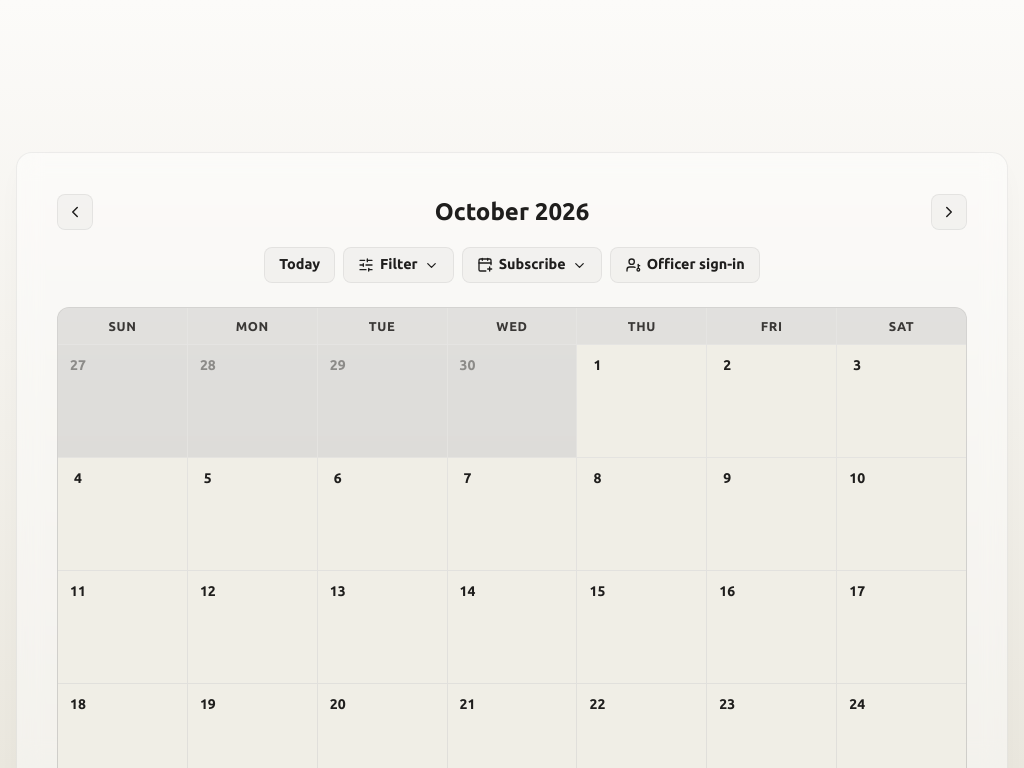
Test: Calendar page › navigates to next/prev month with the chevron buttons
Expected: the text "Future event" is not shown
Click the button named "Next month" at (949, 212), box left=931, top=194, right=967, bottom=230
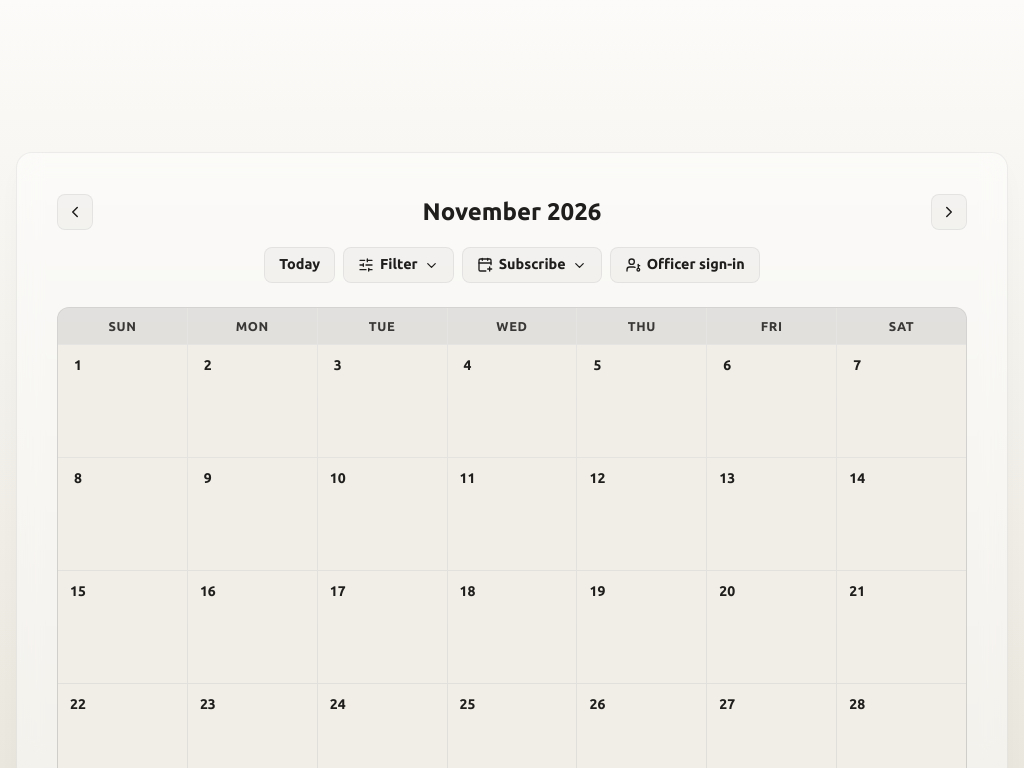
Click the button named "Next month" at (949, 212), box left=931, top=194, right=967, bottom=230
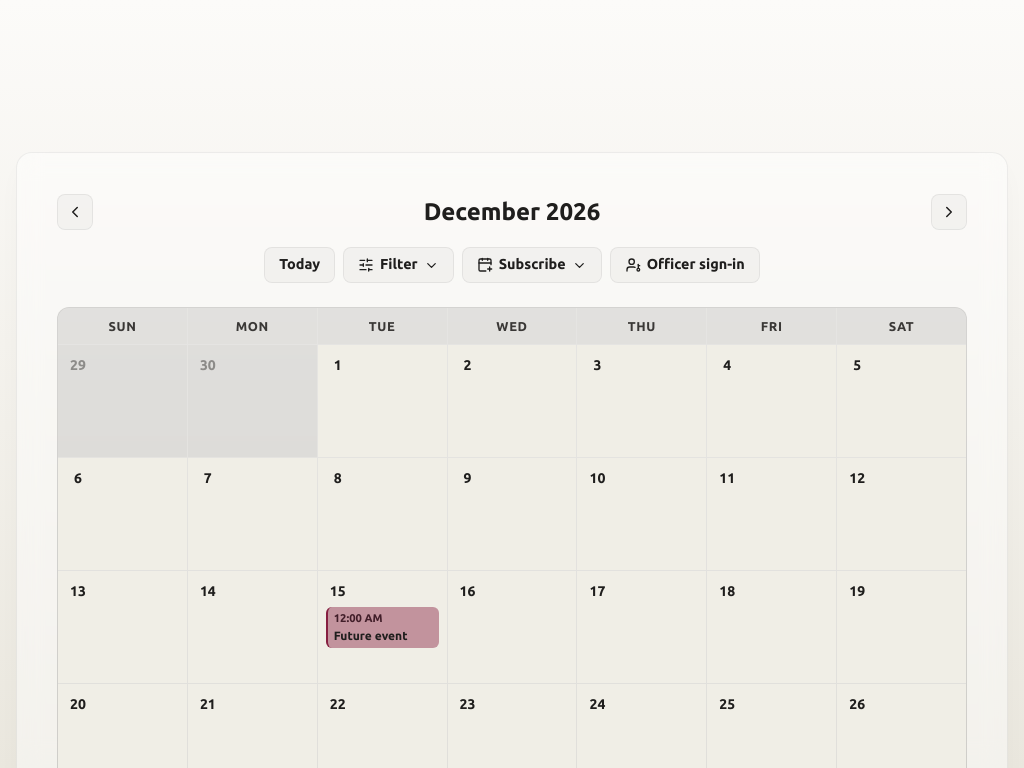
Now the text "Future event" is shown, box left=334, top=628, right=408, bottom=644
Click the button named "Previous month" at (75, 212), box left=57, top=194, right=93, bottom=230
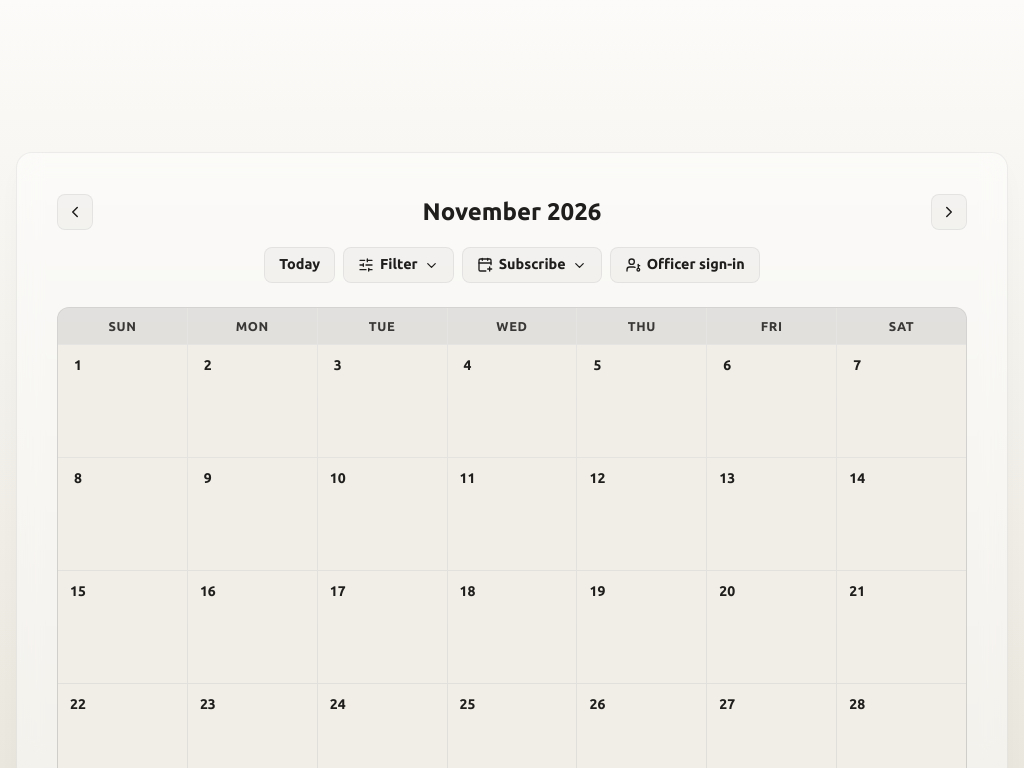
Click the button named "Previous month" at (75, 212), box left=57, top=194, right=93, bottom=230
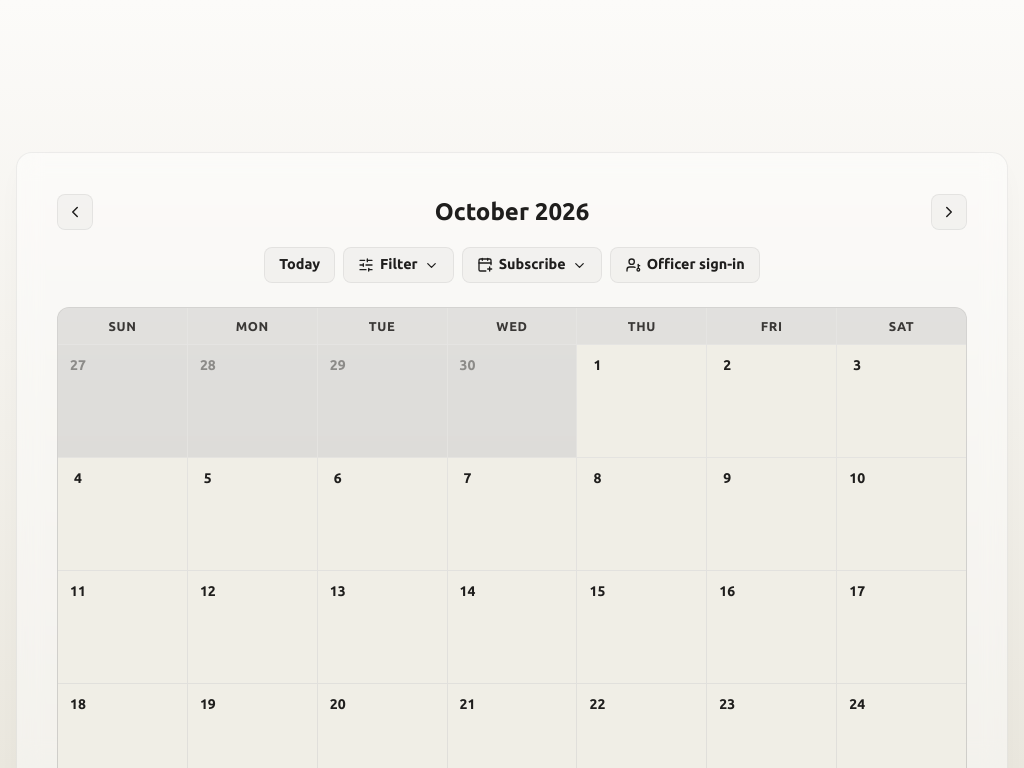
Expected: the button "Future event" is not shown
Now the heading with class "calendar-month-label" shows "October", box left=435, top=198, right=589, bottom=225
